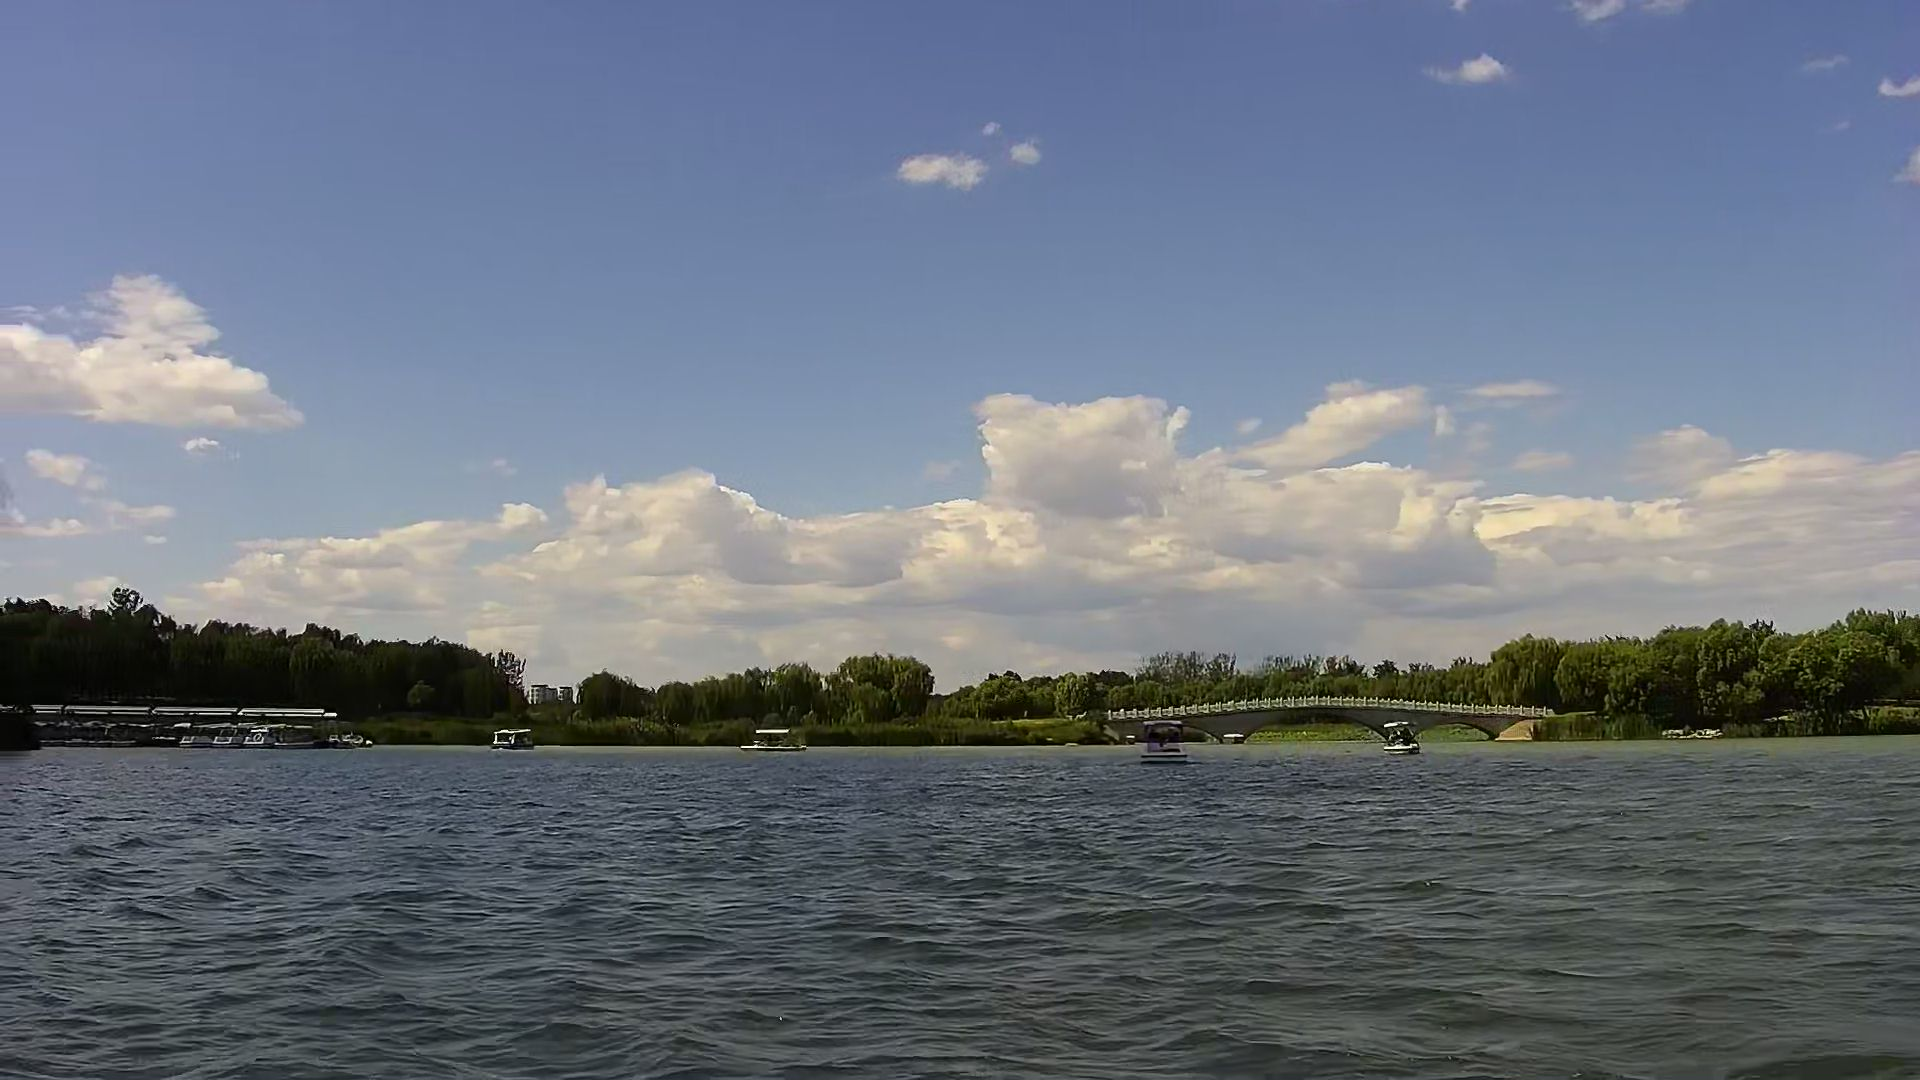boat: (1139, 716, 1205, 764), (733, 723, 808, 764), (243, 720, 313, 756), (1383, 716, 1431, 764), (487, 723, 541, 754)
bridge: (1117, 688, 1543, 748)
